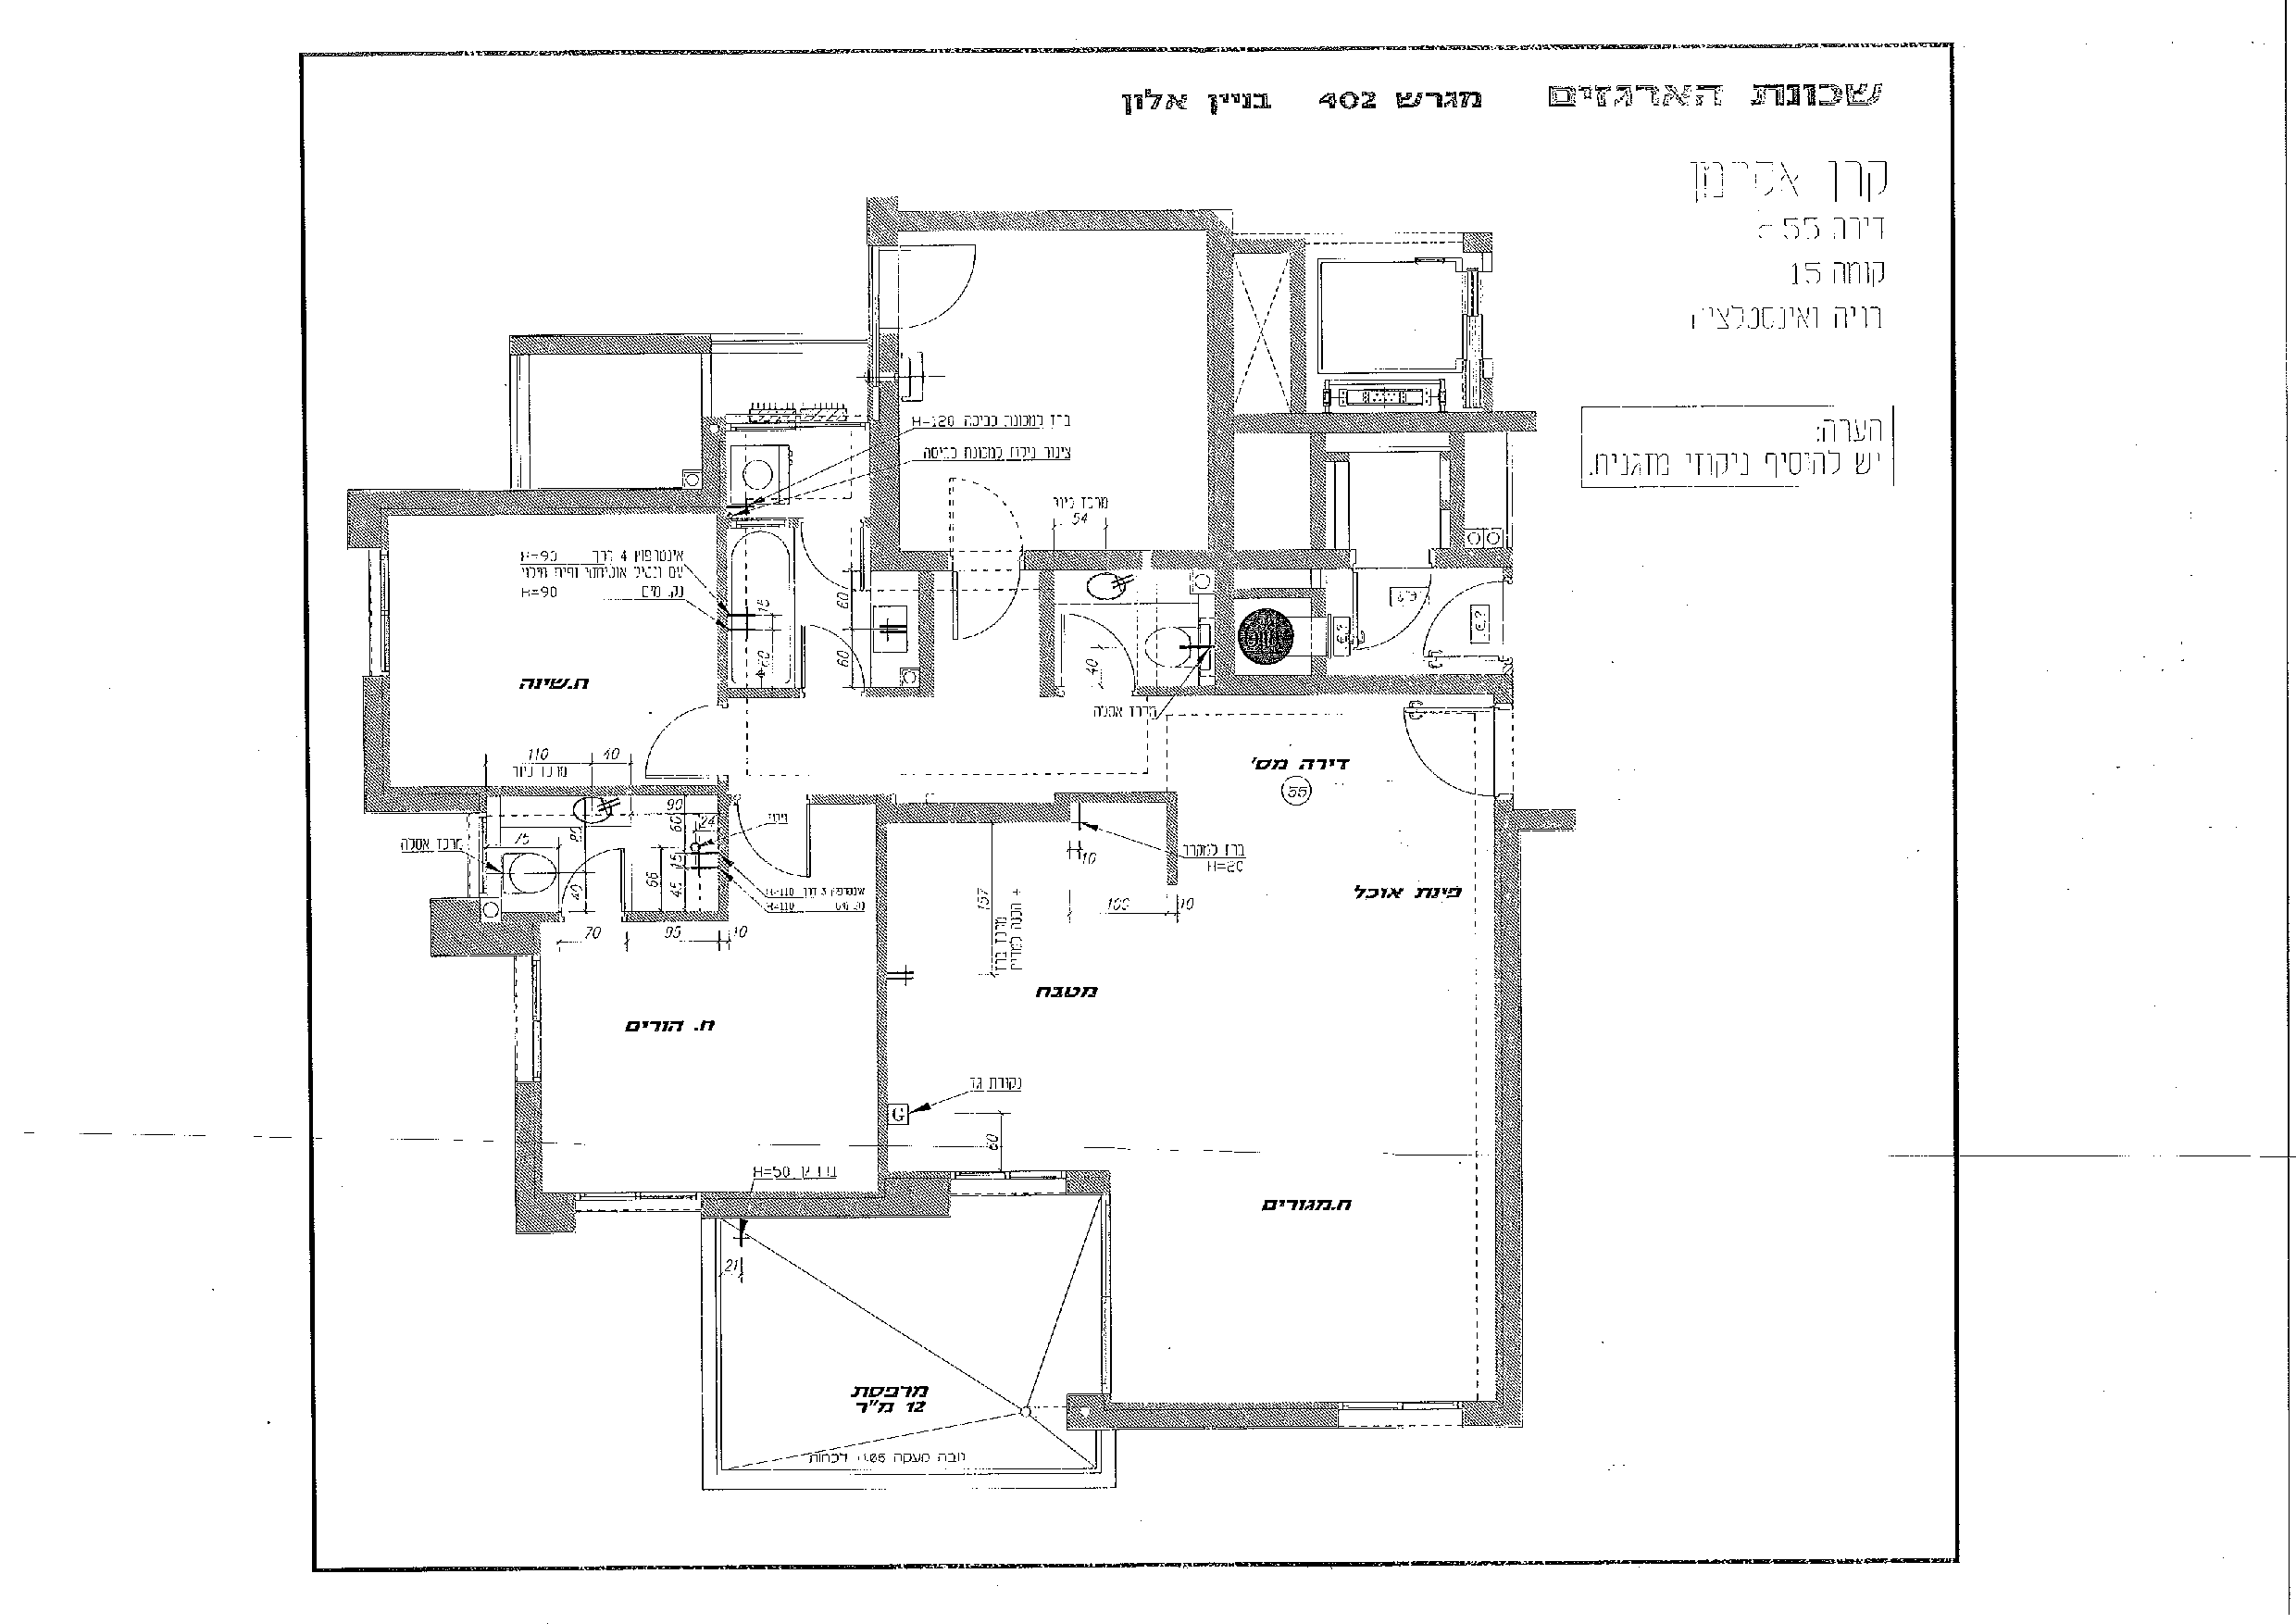door: (1398, 700, 1497, 801), (901, 237, 982, 334), (1423, 578, 1500, 666), (639, 701, 715, 775), (947, 591, 1024, 647)
wall: (1497, 814, 1518, 1418), (1210, 237, 1237, 685), (344, 492, 701, 515), (1079, 1404, 1340, 1429), (877, 213, 1224, 230), (1237, 413, 1534, 431), (708, 1192, 947, 1211), (877, 835, 889, 1183), (520, 1081, 546, 1232), (365, 677, 388, 805), (885, 803, 1066, 819), (506, 339, 711, 352), (395, 786, 494, 810), (1289, 241, 1303, 410), (1244, 678, 1509, 687), (706, 418, 726, 515)
